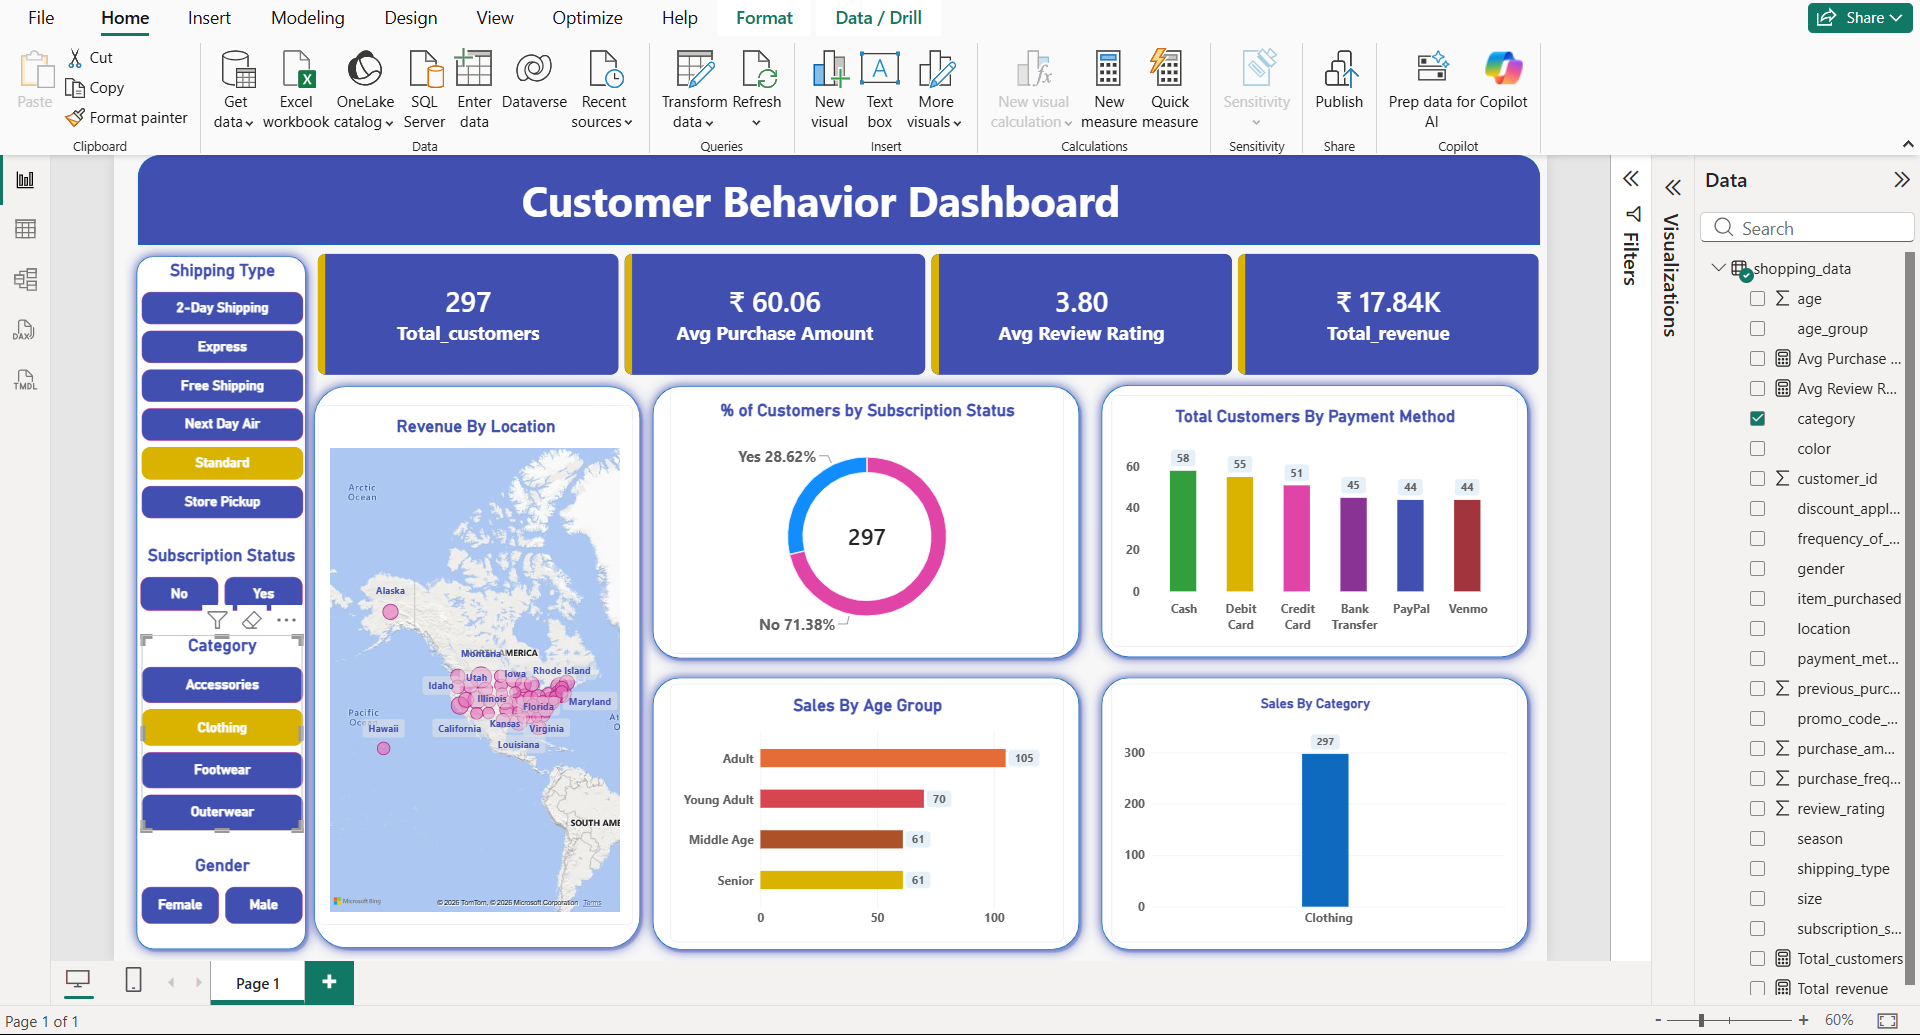

What the dashboard file says about the page in this screenshot:
{"tool":"powerbi","page":{"name":"Page 1","canvas":[1920,1080],"ordinal":0},"visuals":[{"type":"cardVisual","fields":{"Data":["shopping_data.Total_customers","shopping_data.Avg Purchase Amount","shopping_data.Avg Review Rating","shopping_data.Total_revenue"]},"box":[272.4,132.8,1637.9,162.1],"z":0},{"type":"shape","box":[31,0,1879.3,120.7],"z":1},{"type":"textbox","box":[31,22.4,1831,98.3],"z":2},{"type":"shape","box":[706.9,294.8,601.7,394.8],"z":3},{"type":"donutChart","title":"% of Customers by Subscription Status","fields":{"Category":["shopping_data.subscription_status"],"Y":["CountNonNull(shopping_data.customer_id)"]},"box":[744.8,313.8,527.6,355.2],"z":4},{"type":"shape","box":[1308.6,684.5,601.7,394.8],"z":10},{"type":"shape","box":[1308.6,293.1,601.7,394.8],"z":11},{"type":"columnChart","title":"Total Customers By Payment Method","fields":{"Category":["shopping_data.payment_method"],"Y":["CountNonNull(shopping_data.customer_id)"]},"box":[1336.2,322.4,544.8,337.9],"z":12},{"type":"clusteredColumnChart","title":"Sales By Category","fields":{"Category":["shopping_data.category"],"Y":["CountNonNull(shopping_data.customer_id)"]},"box":[1336.2,708.6,544.8,346.6],"z":13},{"type":"shape","box":[15.5,120.7,256.9,958.6],"z":14},{"type":"advancedSlicerVisual","title":"Shipping Type","fields":{"Values":["shopping_data.shipping_type"]},"box":[36.2,141.4,217.2,346.6],"z":15},{"type":"advancedSlicerVisual","title":"Gender","fields":{"Values":["shopping_data.gender"]},"box":[36.2,937.9,217.2,93.1],"z":17},{"type":"advancedSlicerVisual","title":"Subscription Status","fields":{"Values":["shopping_data.subscription_status"]},"box":[36.2,524.1,217.2,91.4],"z":18},{"type":"advancedSlicerVisual","title":"Category","fields":{"Values":["shopping_data.category"]},"box":[36.2,643.1,217.2,263.8],"z":19},{"type":"shape","box":[706.9,684.5,601.7,394.8],"z":20},{"type":"shape","box":[253.4,294.8,467.2,782.8],"z":22},{"type":"map","title":"Revenue By Location","fields":{"Category":["shopping_data.location"],"Size":["shopping_data.Total_revenue"]},"box":[272.4,334.5,422.4,696.6],"z":23},{"type":"clusteredBarChart","title":"Sales By Age Group","fields":{"Category":["shopping_data.age_group"],"Y":["CountNonNull(shopping_data.customer_id)"]},"box":[744.8,708.6,527.6,346.6],"z":24}]}

Visuals, with their boxes on the page's 1920x1080 design canvas (x1, y1, x2, y2). These are canvas units, not pixel positions in the 1920x1035 screenshot, which may show the page scaled, cropped or inside an application window:
cardVisual - shopping_data.Total_customers x shopping_data.Avg Purchase Amount: bbox(272, 133, 1910, 295)
shape: bbox(31, 0, 1910, 121)
textbox: bbox(31, 22, 1862, 121)
shape: bbox(707, 295, 1309, 690)
"% of Customers by Subscription Status" donutChart: bbox(745, 314, 1272, 669)
shape: bbox(1309, 684, 1910, 1079)
shape: bbox(1309, 293, 1910, 688)
"Total Customers By Payment Method" columnChart: bbox(1336, 322, 1881, 660)
"Sales By Category" clusteredColumnChart: bbox(1336, 709, 1881, 1055)
shape: bbox(16, 121, 272, 1079)
"Shipping Type" advancedSlicerVisual: bbox(36, 141, 253, 488)
"Gender" advancedSlicerVisual: bbox(36, 938, 253, 1031)
"Subscription Status" advancedSlicerVisual: bbox(36, 524, 253, 616)
"Category" advancedSlicerVisual: bbox(36, 643, 253, 907)
shape: bbox(707, 684, 1309, 1079)
shape: bbox(253, 295, 721, 1078)
"Revenue By Location" map: bbox(272, 334, 695, 1031)
"Sales By Age Group" clusteredBarChart: bbox(745, 709, 1272, 1055)
